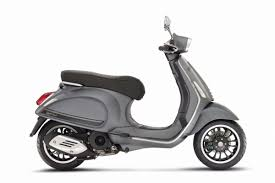motorcycle: (30, 11, 247, 174)
